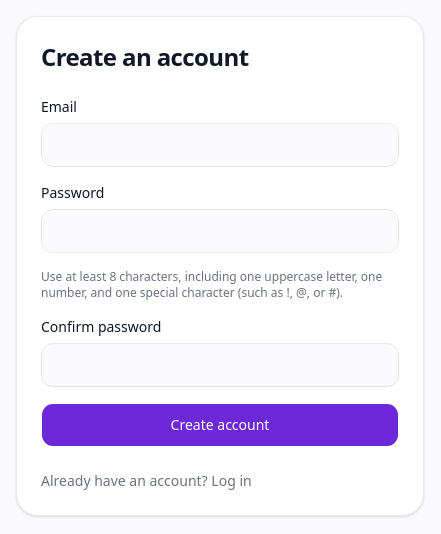
registration form › shows email verification instructions and clears password fields after signup
Type "person@example.com" into the field labelled "Email" at [220, 145], box [41,123,399,167]
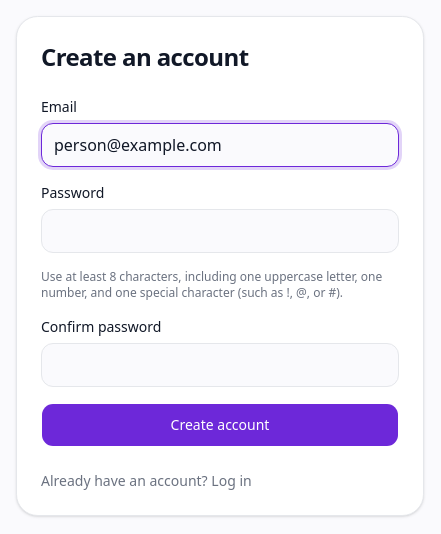
Type "Test-password1!" into the password field labelled "Password" at [220, 231], box [41,209,399,253]
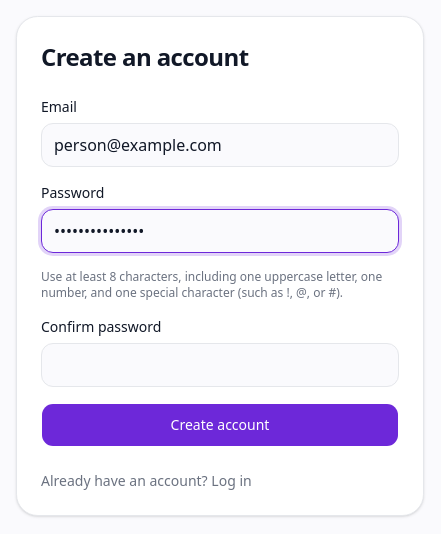
Type "Test-password1!" into the password field labelled "Confirm password" at [220, 365], box [41,343,399,387]
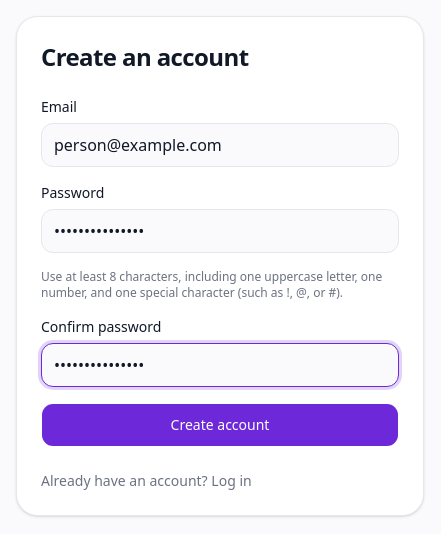
Click the button "Create account" at [220, 425], box [41,403,399,447]
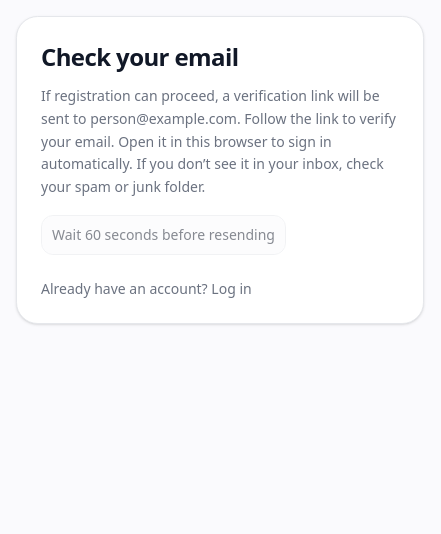
Expected: the heading "Check your email" is shown, [41,40,238,73]
Expected: the message shows "person@example.com", [90,109,237,128]
Expected: the message shows "check your spam or junk folder", [41,109,396,196]
